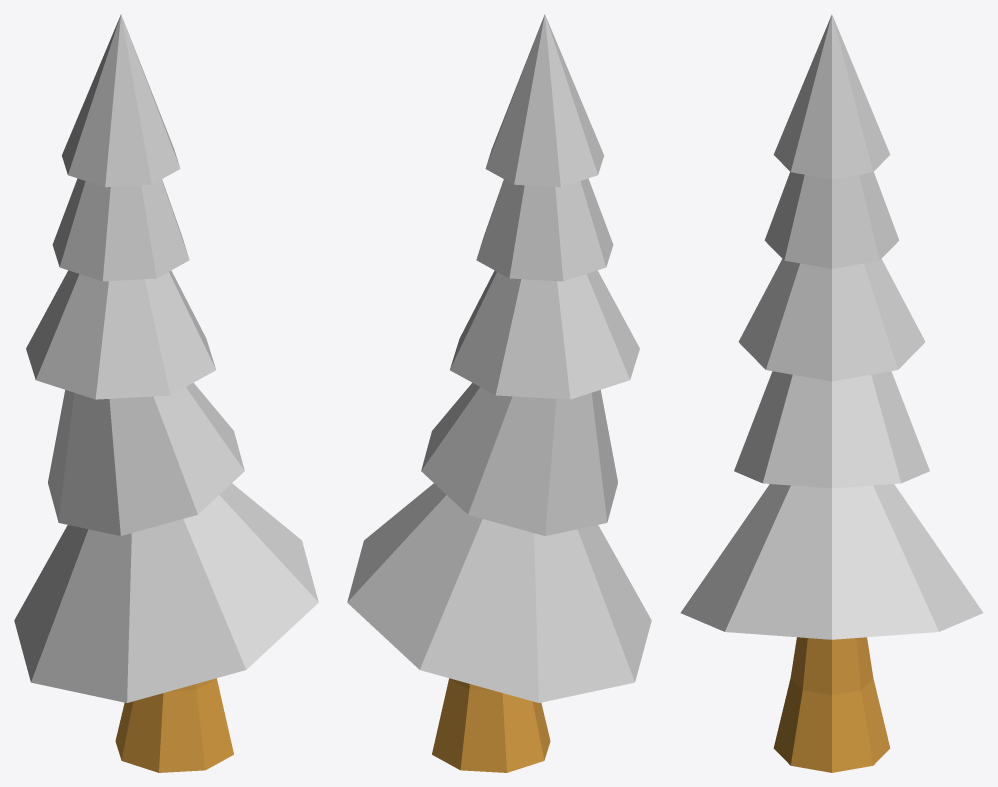
File: Pine_Tree.fbx
3 views of the same model, side by side, from view 1: azimuth 30°, elevation 25°; view 2: azimuth 150°, elevation 25°; view 3: azimuth 270°, elevation 25° (orthographic). The views are drawn at different scales.
Visible parts, largest first — view 1: Pine; view 2: Pine; view 3: Pine.
Part boxes in pixels (bbox=[...]): Pine: bbox=[14, 14, 318, 772]; Pine: bbox=[347, 14, 651, 772]; Pine: bbox=[680, 14, 983, 772].
Bounding box in the file's own units: 76.41 × 201 × 77.94.
